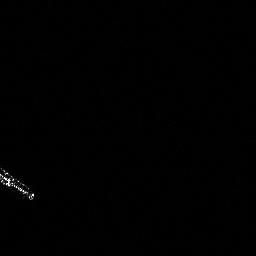ship: (1, 162, 38, 204)
